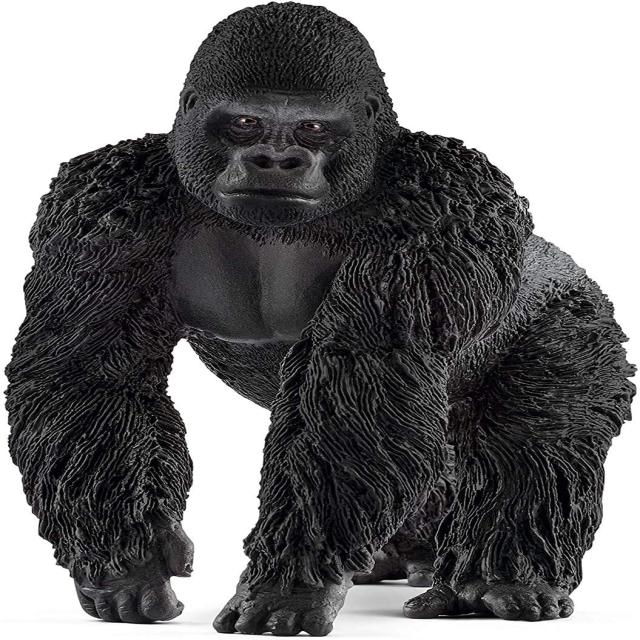Gorilla: (14, 3, 630, 632)
